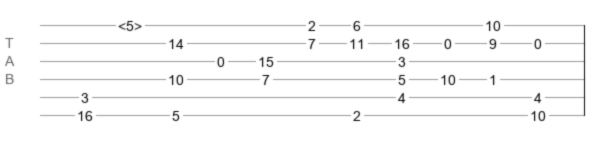0: (217, 54, 225, 64), (444, 36, 452, 46), (534, 36, 542, 46)
1: (489, 72, 497, 82)
10: (168, 72, 184, 82), (440, 72, 456, 82), (485, 18, 501, 28), (530, 108, 546, 118)
11: (349, 36, 365, 46)
14: (168, 36, 184, 46)
15: (258, 54, 274, 64)
16: (77, 108, 93, 118), (394, 36, 410, 46)
2: (308, 18, 316, 28), (353, 108, 361, 118)
3: (81, 90, 89, 100), (398, 54, 406, 64)
4: (398, 90, 406, 100), (534, 90, 542, 100)
5: (172, 108, 180, 118), (398, 72, 406, 82)
6: (353, 18, 361, 28)
7: (262, 72, 270, 82), (308, 36, 316, 46)
9: (489, 36, 497, 46)
harmonic: (118, 18, 142, 28)
